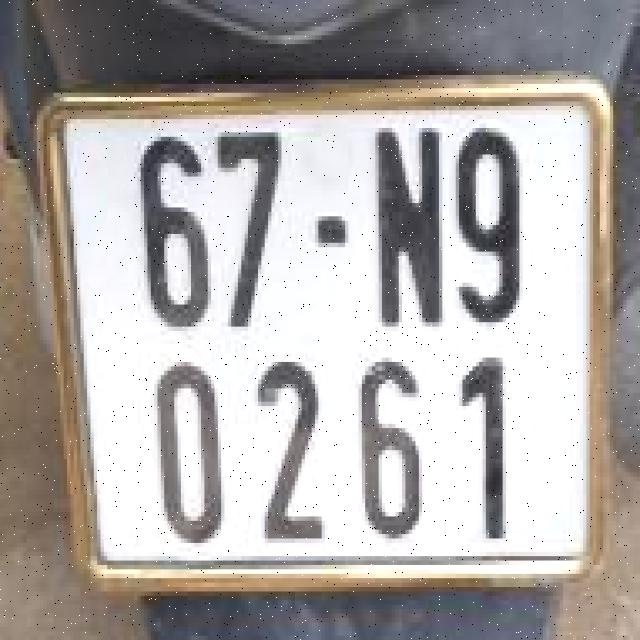0: (141, 351, 228, 549)
1: (439, 344, 519, 556)
2: (253, 342, 333, 554)
6: (132, 124, 213, 336), (348, 340, 429, 543)
7: (215, 119, 288, 336)
9: (449, 110, 529, 336)
N: (367, 113, 447, 324)
